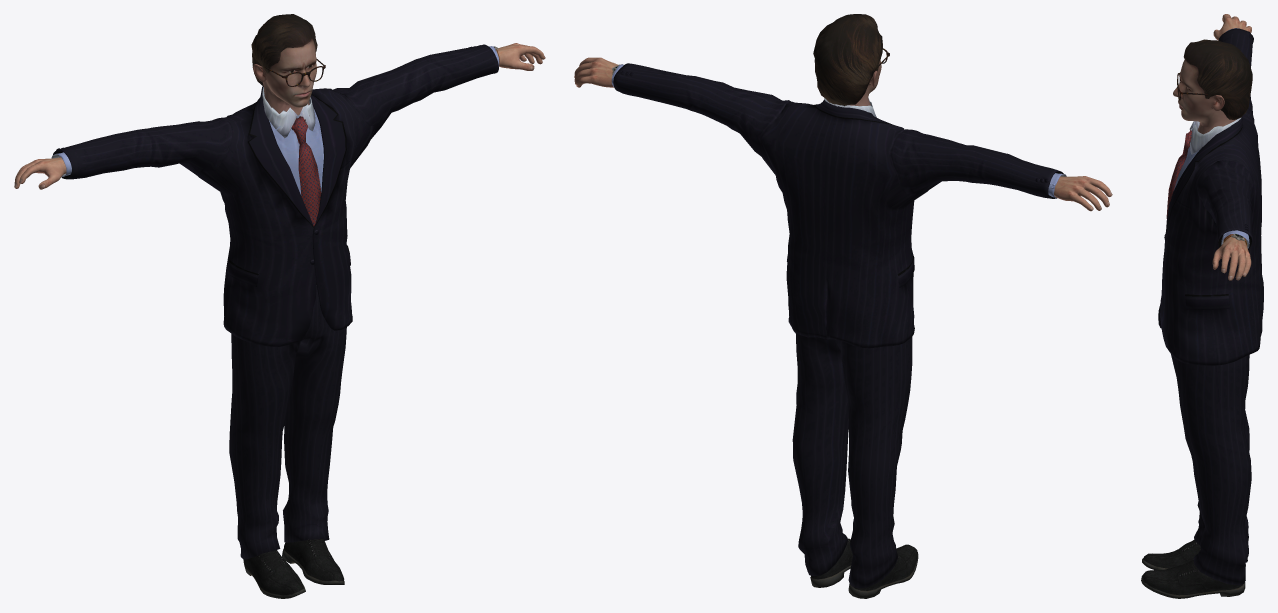
The model's file is Сигма.glb.
The picture shows the model from 3 angles, left to right: view 1: azimuth 30°, elevation 25°; view 2: azimuth 150°, elevation 25°; view 3: azimuth 270°, elevation 25°; orthographic projection. The views are drawn at different scales.
Parts seen in each view (by area): view 1: mesh_id34, mesh_id33, mesh_id31, mesh_id37, mesh_id30, mesh_id32, mesh_id35; view 2: mesh_id34, mesh_id33, mesh_id30, mesh_id32, mesh_id31; view 3: mesh_id34, mesh_id33, mesh_id30, mesh_id31, mesh_id37, mesh_id32, mesh_id35.
Boxes of the visible parts, left/top/right/bottom form: mesh_id34: left=51, top=44, right=499, bottom=346; mesh_id33: left=229, top=283, right=346, bottom=559; mesh_id31: left=243, top=539, right=344, bottom=598; mesh_id37: left=252, top=38, right=316, bottom=115; mesh_id30: left=251, top=14, right=317, bottom=86; mesh_id32: left=14, top=43, right=545, bottom=189; mesh_id35: left=291, top=115, right=321, bottom=225; mesh_id34: left=611, top=63, right=1066, bottom=348; mesh_id33: left=792, top=318, right=912, bottom=588; mesh_id30: left=813, top=14, right=882, bottom=106; mesh_id32: left=574, top=57, right=1112, bottom=211; mesh_id31: left=810, top=538, right=918, bottom=598; mesh_id34: left=1158, top=28, right=1263, bottom=365; mesh_id33: left=1171, top=354, right=1251, bottom=585; mesh_id30: left=1183, top=39, right=1252, bottom=119; mesh_id31: left=1141, top=540, right=1245, bottom=598; mesh_id37: left=1173, top=60, right=1236, bottom=134; mesh_id32: left=1212, top=14, right=1251, bottom=280; mesh_id35: left=1166, top=130, right=1191, bottom=218.
Bounding box in the file's own units: 3.09 × 3.1 × 0.6396.
Materials: 10 (10 with a texture image).
